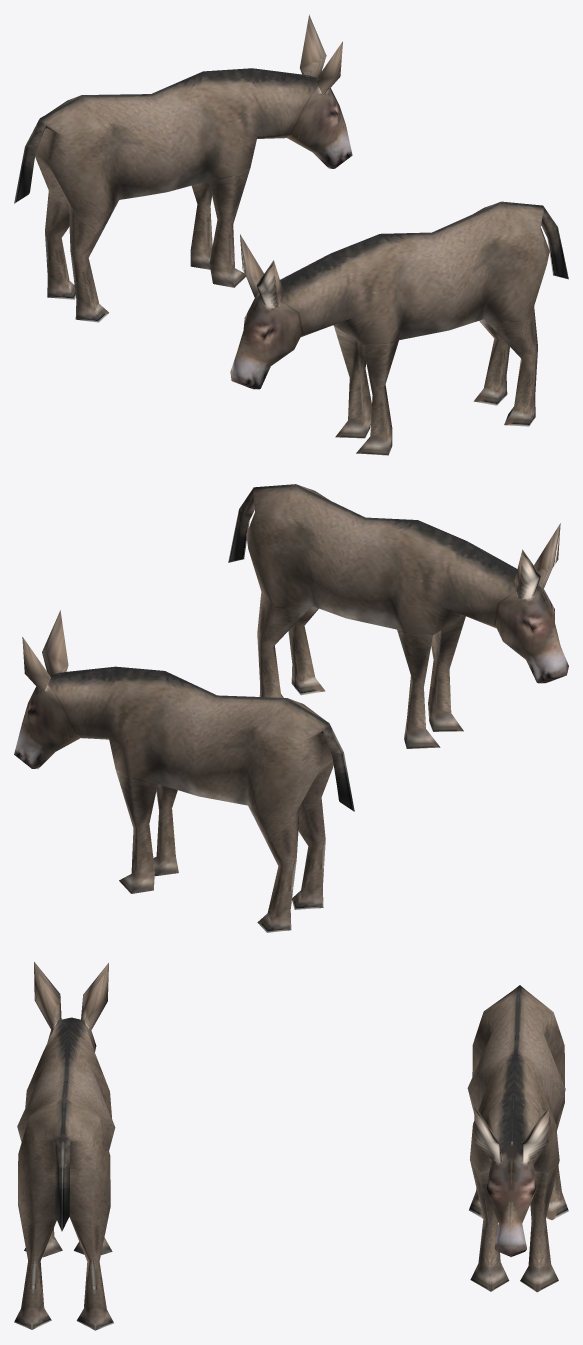
File: celt_sb_donkeys.dae
The picture shows the model from 3 angles, top to bottom: view 1: azimuth 30°, elevation 25°; view 2: azimuth 150°, elevation 25°; view 3: azimuth 270°, elevation 25°; orthographic projection. The views are drawn at different scales.
Visible parts, largest first — view 1: donkey-Pivot; view 2: donkey-Pivot; view 3: donkey-Pivot.
Part boxes in pixels (x1=…): donkey-Pivot: x1=14, y1=14, x2=568, y2=455; donkey-Pivot: x1=14, y1=484, x2=568, y2=932; donkey-Pivot: x1=14, y1=962, x2=568, y2=1330.
Bounding box in the file's own units: 4.45 × 5.95 × 2.76.
